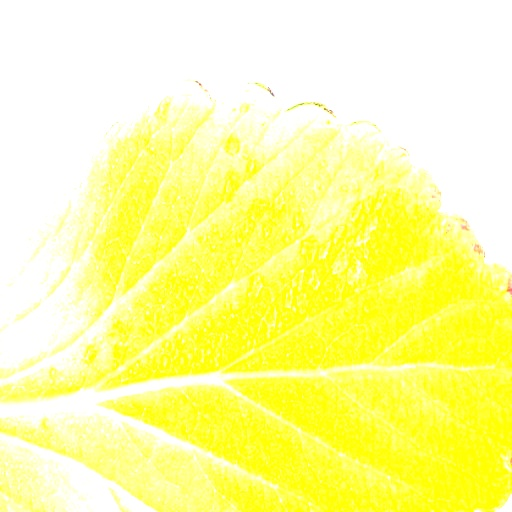Angular Leafspot: (61, 126, 420, 401)
